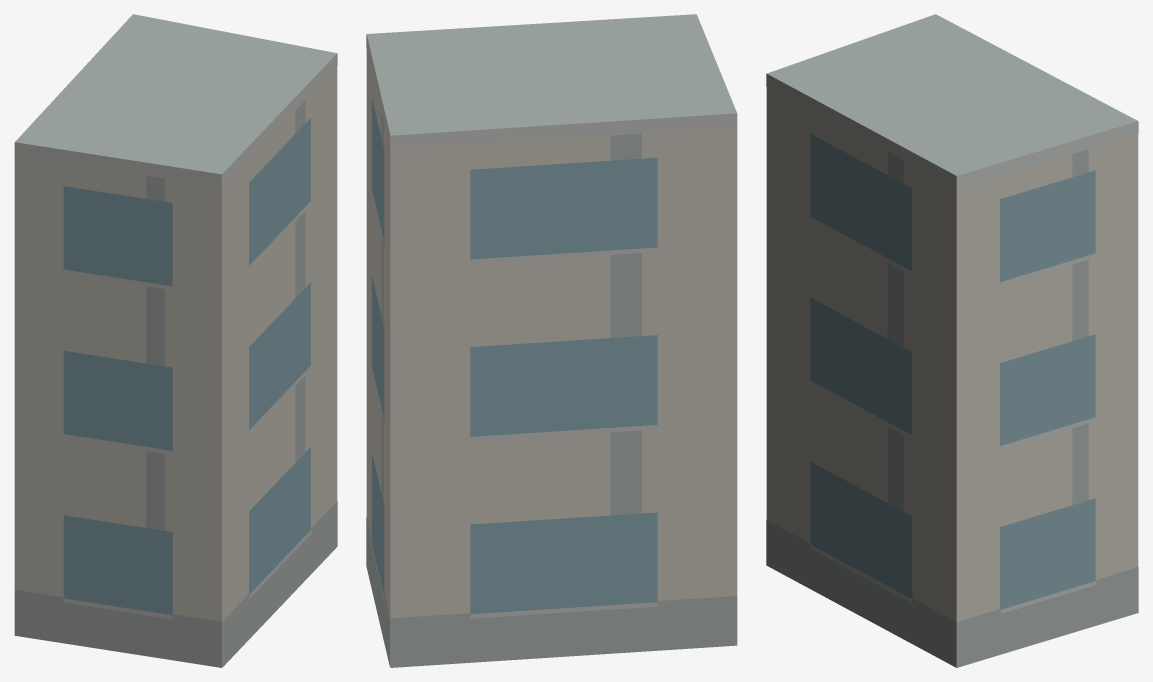
Rendered from survey-upis-32930138.glb.
3 renders of one model, left to right at view 1: azimuth 30°, elevation 25°; view 2: azimuth 150°, elevation 25°; view 3: azimuth 270°, elevation 25°, orthographic. The views are drawn at different scales.
Parts seen in each view (by area): view 1: survey-upis-32930138.tmp; view 2: survey-upis-32930138.tmp; view 3: survey-upis-32930138.tmp.
Part boxes in pixels (left/top/right/bottom): survey-upis-32930138.tmp: left=14, top=14, right=337, bottom=667; survey-upis-32930138.tmp: left=366, top=14, right=737, bottom=667; survey-upis-32930138.tmp: left=766, top=14, right=1138, bottom=667.
Size of the model in its own units: 6.47 by 9.15 by 6.28.
